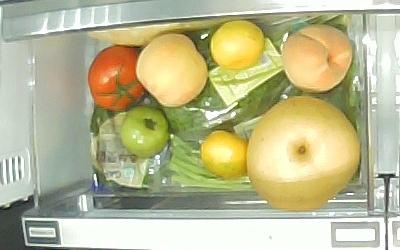peach: (136, 33, 208, 107), (281, 23, 353, 93)
pear: (245, 95, 361, 210)
tangerine: (199, 129, 247, 182), (211, 21, 264, 69)
tomato: (87, 45, 145, 111), (120, 105, 169, 159)
